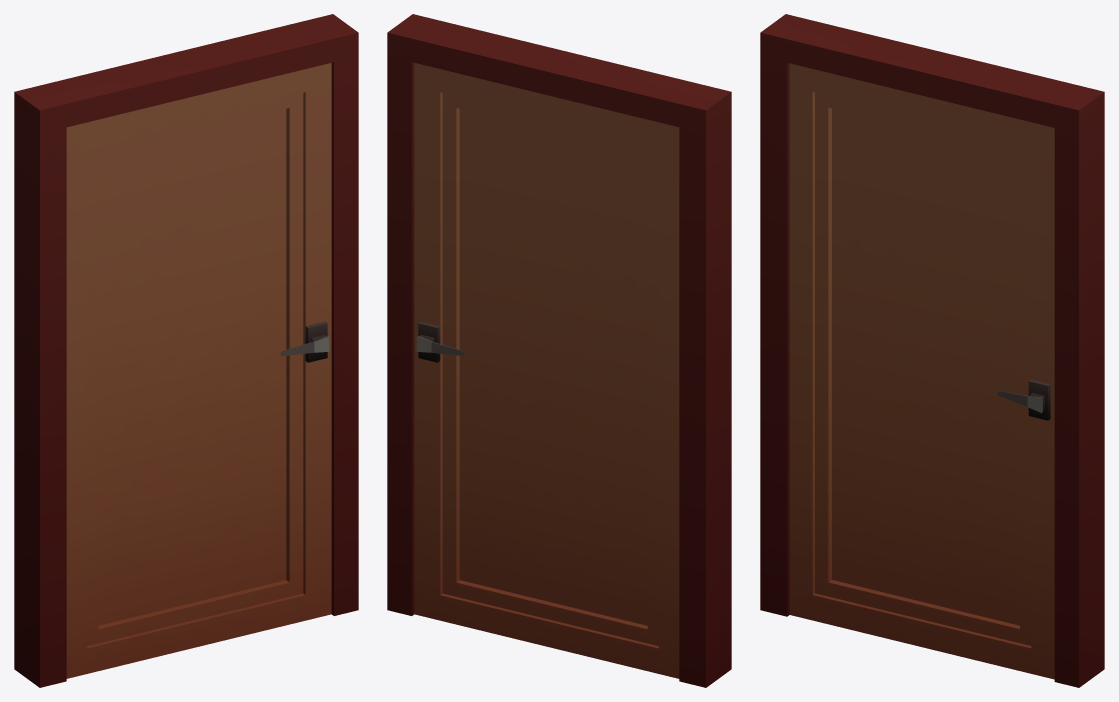
The model's file is Door.fbx.
3 views of the same model, side by side, from view 1: azimuth 30°, elevation 25°; view 2: azimuth 150°, elevation 25°; view 3: azimuth 330°, elevation 25° (orthographic).
Visible parts, largest first — view 1: Door; view 2: Door; view 3: Door.
Boxes of the visible parts, x1,y1,x2,y2 form: Door: (14,14,358,687); Door: (387,14,731,687); Door: (760,14,1104,687).
Bounding box in the file's own units: 120 × 208 × 21.68.
